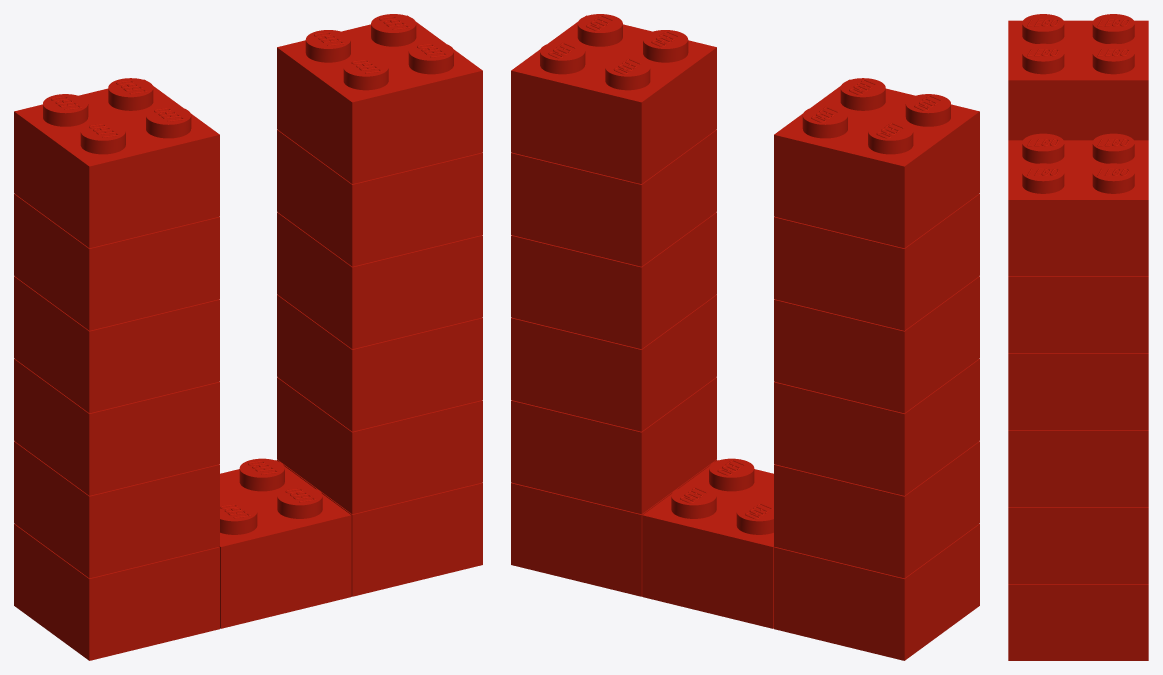
3 views of the same model, side by side, from view 1: azimuth 30°, elevation 25°; view 2: azimuth 150°, elevation 25°; view 3: azimuth 270°, elevation 25° (orthographic). The views are drawn at different scales.
Visible parts, largest first — view 1: Inner-Node-U_dot_io-8, Inner-Node-U_dot_io-9, Inner-Node-U_dot_io-4, Inner-Node-U_dot_io-7, Inner-Node-U_dot_io-10, Inner-Node-U_dot_io-0, Inner-Node-U_dot_io-5, Inner-Node-U_dot_io-3, Inner-Node-U_dot_io-6, Inner-Node-U_dot_io-12, Inner-Node-U_dot_io-11, Inner-Node-U_dot_io-2 (+1 smaller); view 2: Inner-Node-U_dot_io-8, Inner-Node-U_dot_io-9, Inner-Node-U_dot_io-4, Inner-Node-U_dot_io-7, Inner-Node-U_dot_io-10, Inner-Node-U_dot_io-0, Inner-Node-U_dot_io-5, Inner-Node-U_dot_io-3, Inner-Node-U_dot_io-6, Inner-Node-U_dot_io-12, Inner-Node-U_dot_io-11, Inner-Node-U_dot_io-2 (+1 smaller); view 3: Inner-Node-U_dot_io-9, Inner-Node-U_dot_io-8, Inner-Node-U_dot_io-1, Inner-Node-U_dot_io-5, Inner-Node-U_dot_io-6, Inner-Node-U_dot_io-7, Inner-Node-U_dot_io-12.
Part boxes in pixels (x1,y1,x2,y2): Inner-Node-U_dot_io-8: (14,78,219,248); Inner-Node-U_dot_io-9: (277,14,482,183); Inner-Node-U_dot_io-4: (219,458,351,628); Inner-Node-U_dot_io-7: (277,129,482,266); Inner-Node-U_dot_io-10: (14,441,219,578); Inner-Node-U_dot_io-0: (14,276,219,413); Inner-Node-U_dot_io-5: (277,377,482,514); Inner-Node-U_dot_io-3: (14,194,219,330); Inner-Node-U_dot_io-6: (277,212,482,349); Inner-Node-U_dot_io-12: (277,294,482,431); Inner-Node-U_dot_io-11: (14,359,219,495); Inner-Node-U_dot_io-2: (14,524,219,660); Inner-Node-U_dot_io-8: (774,78,979,248); Inner-Node-U_dot_io-9: (511,14,716,183); Inner-Node-U_dot_io-4: (642,458,774,628); Inner-Node-U_dot_io-7: (511,129,716,266); Inner-Node-U_dot_io-10: (774,441,979,578); Inner-Node-U_dot_io-0: (774,276,979,413); Inner-Node-U_dot_io-5: (511,377,716,514); Inner-Node-U_dot_io-3: (774,194,979,330); Inner-Node-U_dot_io-6: (511,212,716,349); Inner-Node-U_dot_io-12: (511,294,716,431); Inner-Node-U_dot_io-11: (774,359,979,495); Inner-Node-U_dot_io-2: (774,524,979,660); Inner-Node-U_dot_io-9: (1008,133,1148,275); Inner-Node-U_dot_io-8: (1008,14,1148,140); Inner-Node-U_dot_io-1: (1008,584,1148,660); Inner-Node-U_dot_io-5: (1008,507,1148,583); Inner-Node-U_dot_io-6: (1008,353,1148,429); Inner-Node-U_dot_io-7: (1008,276,1148,352); Inner-Node-U_dot_io-12: (1008,430,1148,506).
Bounding box in the file's own units: 120 × 148 × 39.75.
